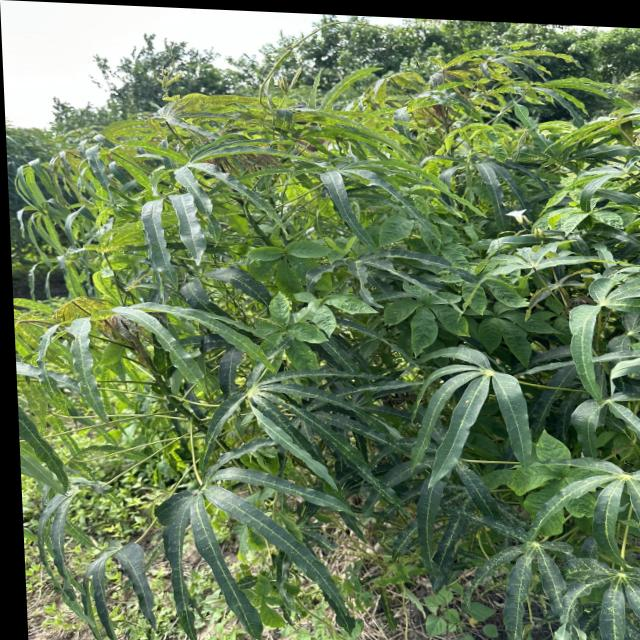Maleza: (467, 292, 574, 374), (245, 238, 361, 310), (434, 229, 532, 310), (235, 296, 357, 354), (514, 433, 574, 531), (394, 282, 466, 354), (375, 194, 456, 252), (427, 584, 465, 640)
